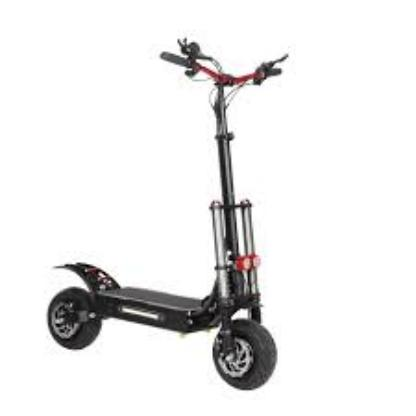bike: (46, 37, 290, 392)
